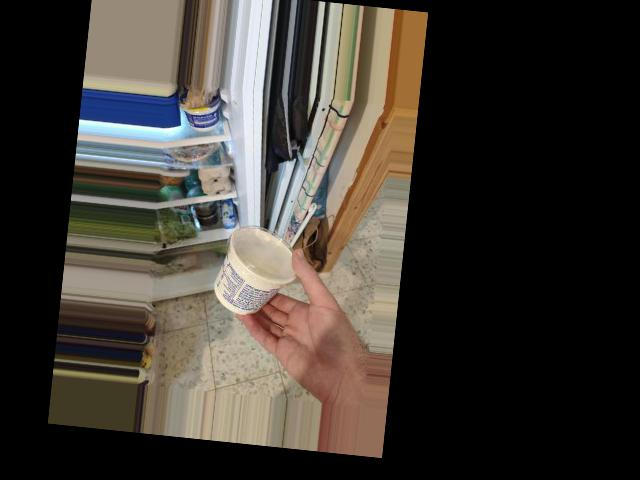cotage: (215, 223, 291, 315)
